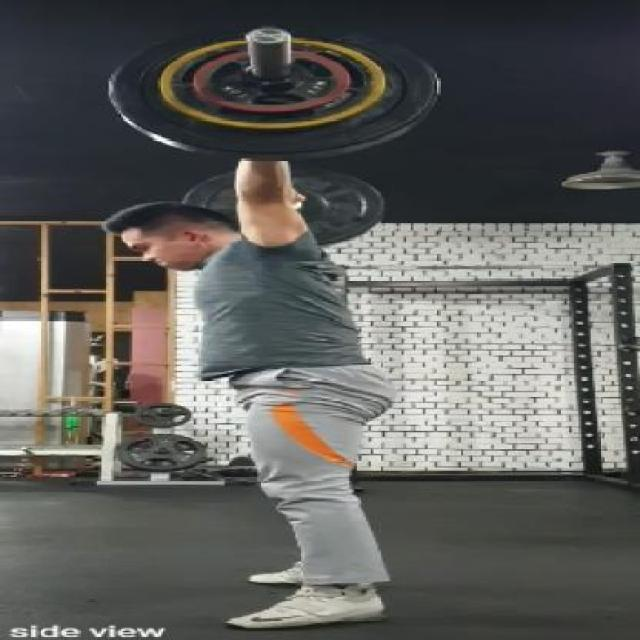barbell: (86, 10, 466, 169)
